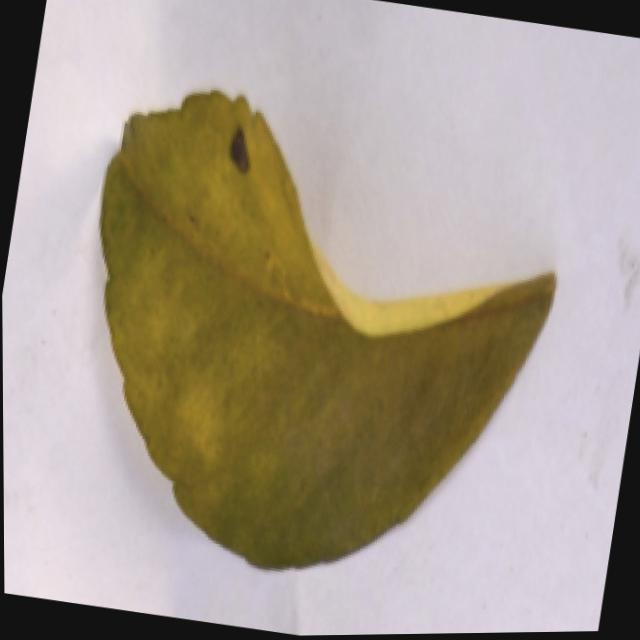canker: (105, 92, 552, 566), (208, 123, 282, 182)
